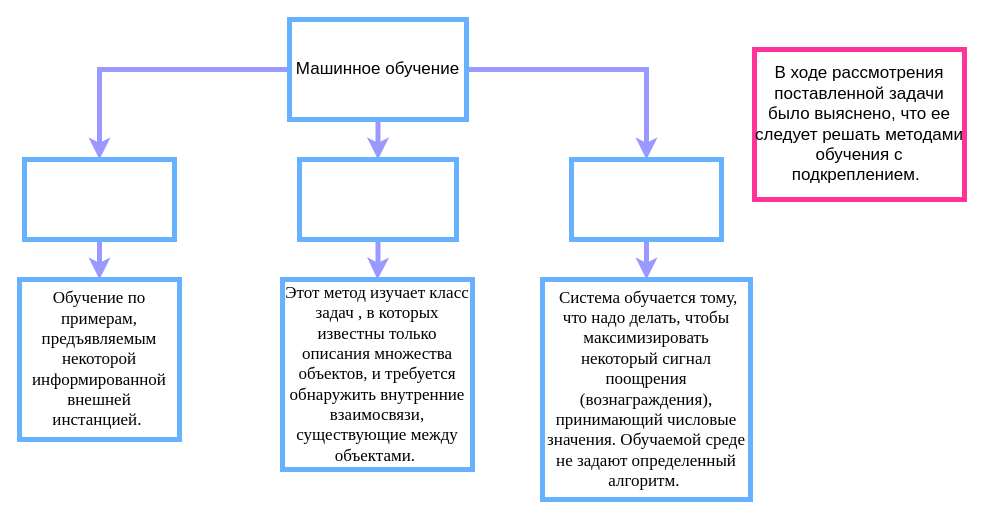
Some shapes in this 984 by 519 pixel diagram are drawn without their labels. Each missing label, with the box of its shape:
Обучение без учителя: (296, 156, 458, 242)
Обучение с подкреплением: (568, 156, 724, 242)
Обучение с учителем: (22, 156, 176, 242)
